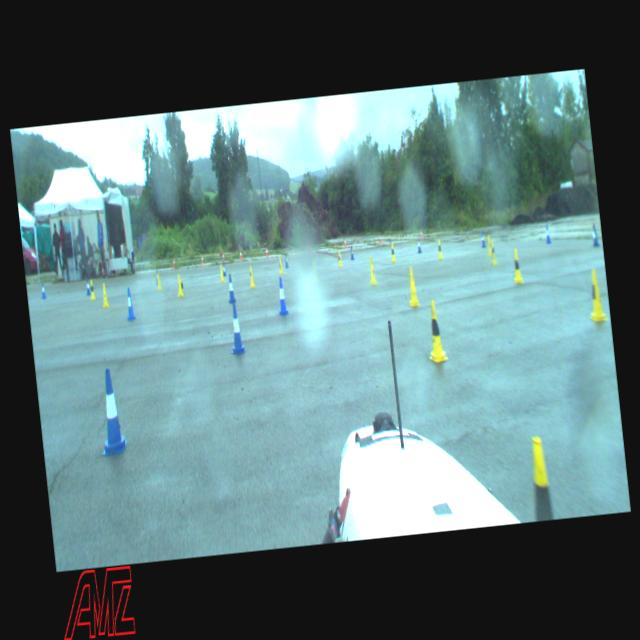blue_cone: (94, 367, 128, 456), (226, 302, 247, 355), (274, 276, 290, 316), (124, 286, 136, 320), (226, 272, 237, 303), (590, 222, 600, 246), (543, 224, 551, 244), (38, 280, 46, 298), (479, 230, 486, 248), (84, 278, 90, 296), (416, 237, 422, 253), (348, 246, 354, 260), (284, 252, 288, 268), (154, 270, 158, 286), (222, 260, 226, 276)
orange_cone: (172, 257, 176, 268), (264, 246, 268, 256), (238, 250, 242, 260), (200, 254, 203, 264), (378, 232, 381, 242), (344, 238, 346, 248), (420, 228, 422, 238), (222, 252, 224, 261), (308, 244, 310, 252)
yellow_cone: (516, 436, 564, 522), (423, 299, 449, 363), (584, 268, 607, 324), (405, 266, 420, 306), (511, 247, 524, 283), (367, 256, 378, 285), (489, 238, 498, 266), (100, 282, 109, 308), (175, 272, 184, 296), (88, 278, 96, 300), (248, 264, 255, 288), (485, 233, 492, 256), (276, 256, 284, 274), (436, 238, 442, 260), (312, 260, 318, 282), (390, 243, 396, 262), (156, 271, 162, 290), (218, 264, 224, 282), (337, 248, 342, 266)
